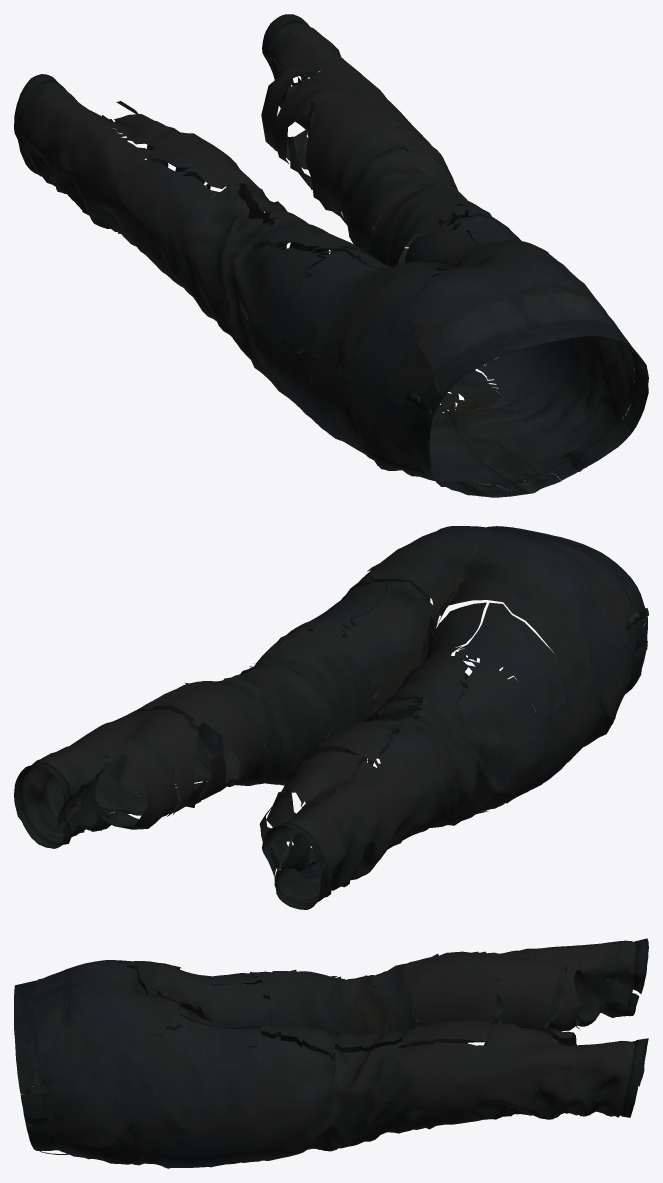
File: adult-base-01.mobile.glb
3 renders of one model, top to bottom at view 1: azimuth 30°, elevation 25°; view 2: azimuth 150°, elevation 25°; view 3: azimuth 270°, elevation 25°, orthographic. The views are drawn at different scales.
Parts seen in each view (by area): view 1: geometry_0; view 2: geometry_0; view 3: geometry_0.
Boxes of the visible parts, <box> form: geometry_0: <box>14,14,648,497</box>; geometry_0: <box>14,526,648,909</box>; geometry_0: <box>14,938,648,1168</box>.
Bounding box in the file's own units: 0.00452 × 0.00278 × 0.0097.
Materials: 1 (1 with a texture image).
